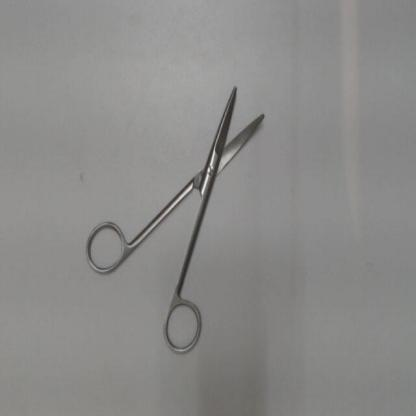Curved Mayo Scissors: (80, 76, 276, 366)
